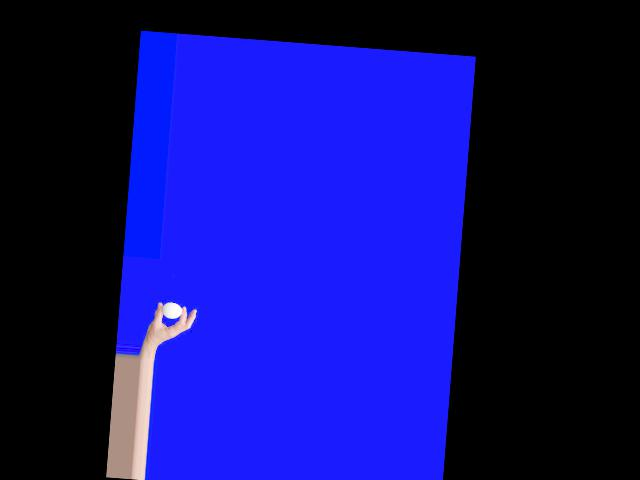egg: (161, 301, 182, 319)
